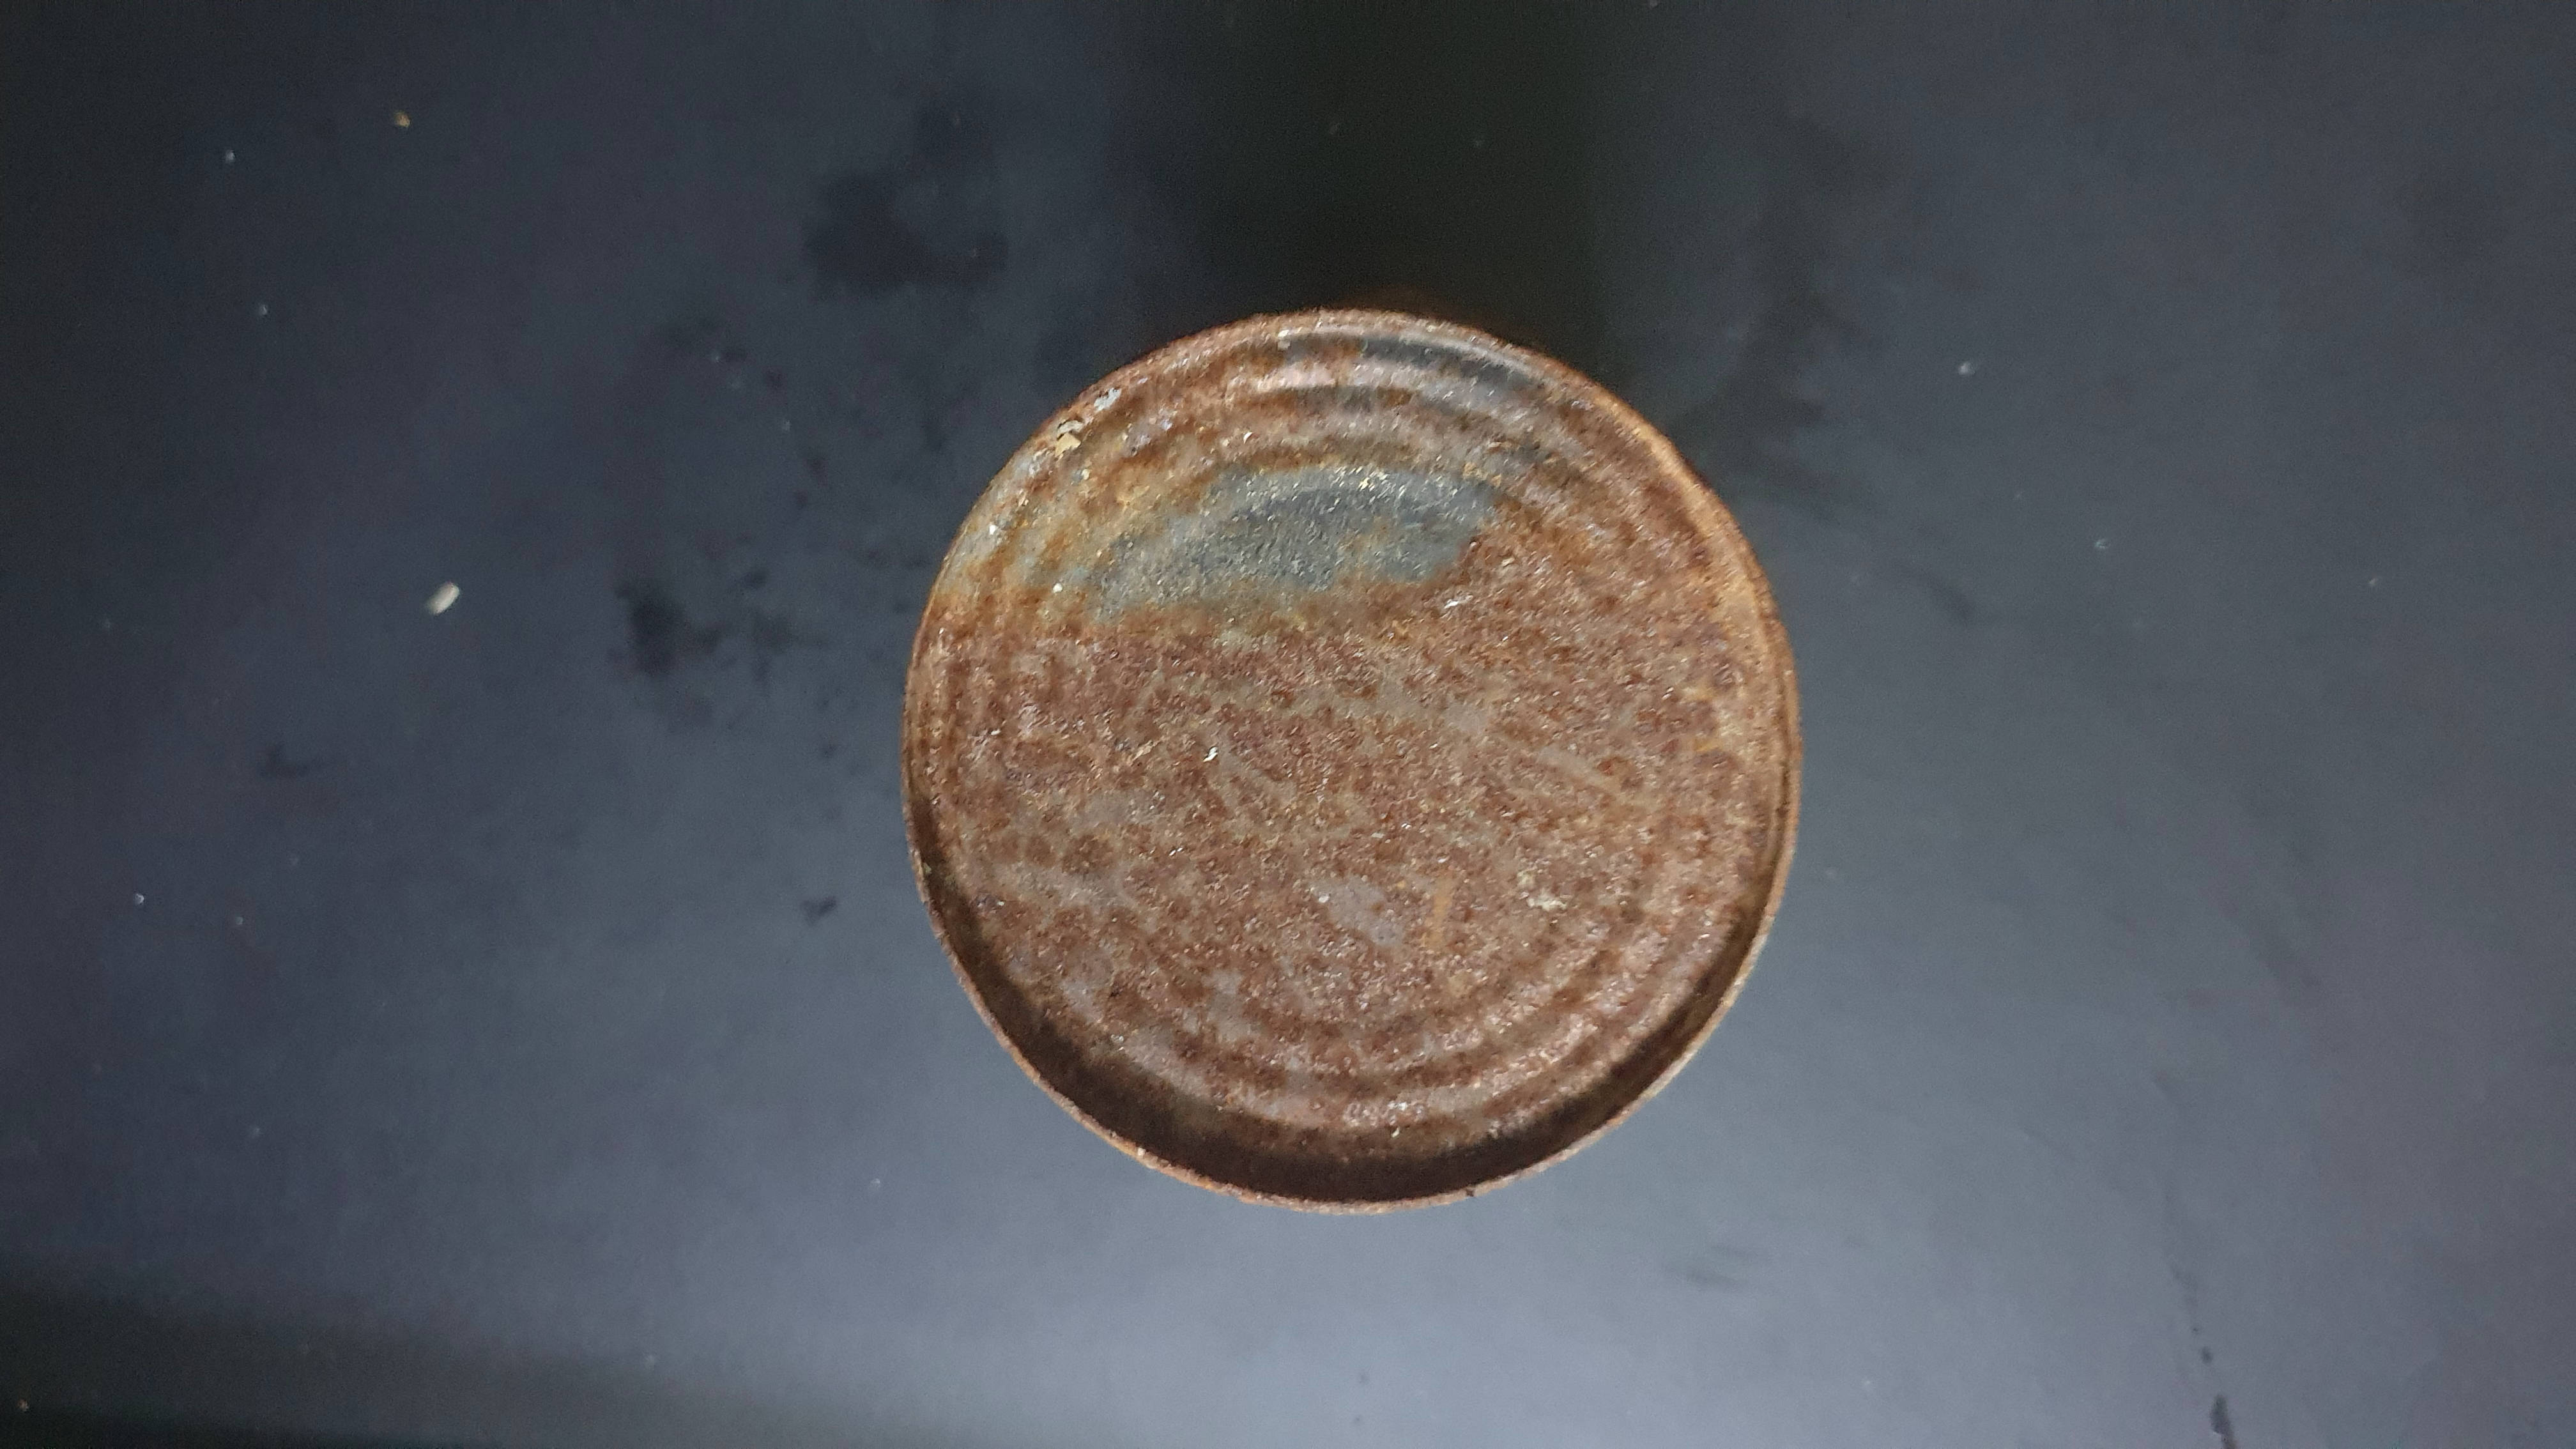metal: (874, 271, 1838, 1261)
